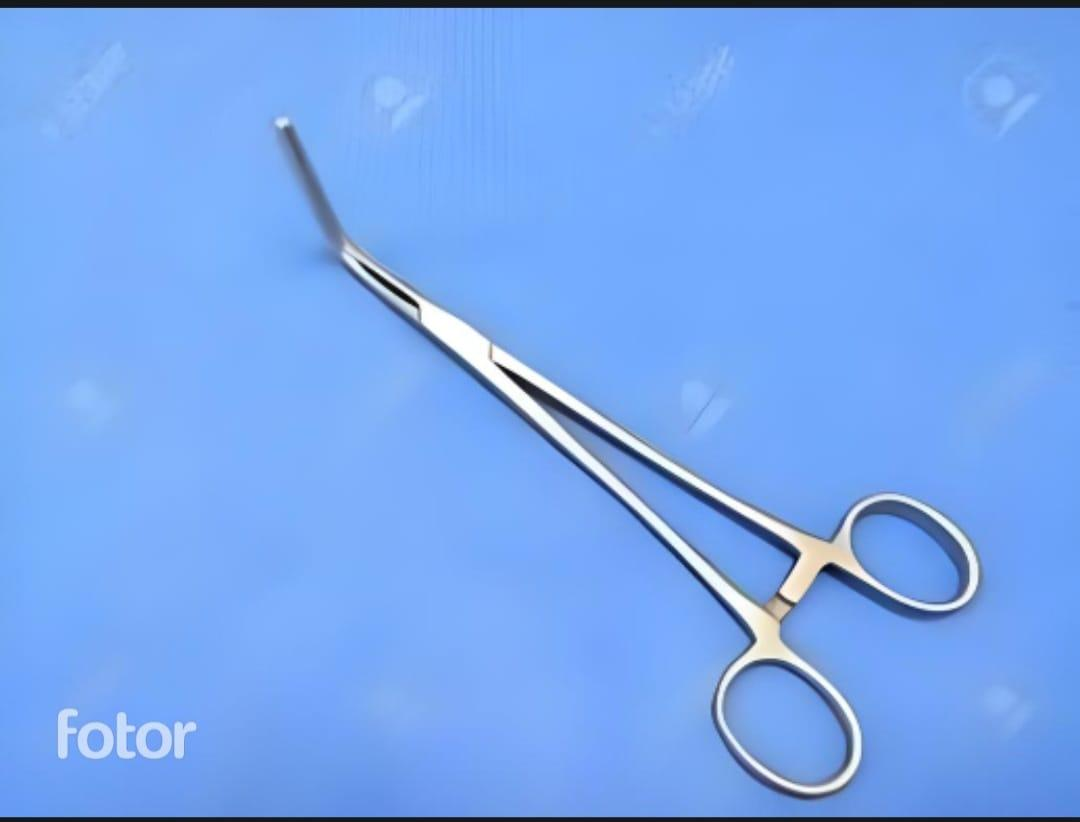Rectangle Cholecystectomy Forceps: (261, 105, 986, 805)
